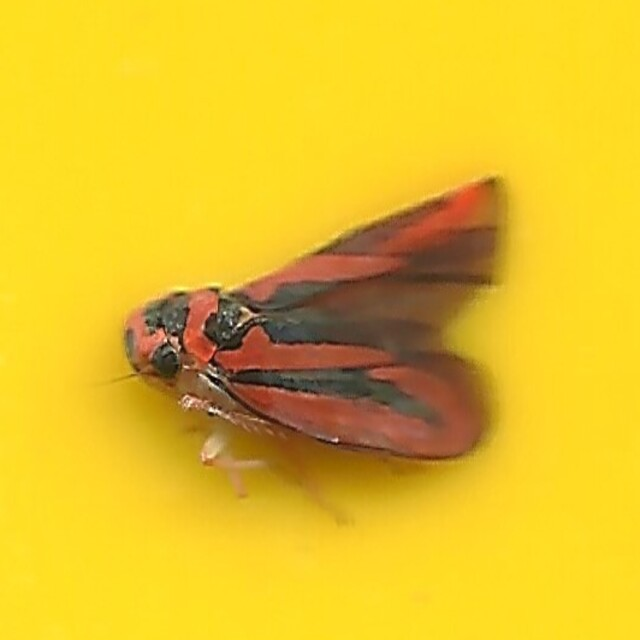Hemiptera: (120, 164, 520, 476)
